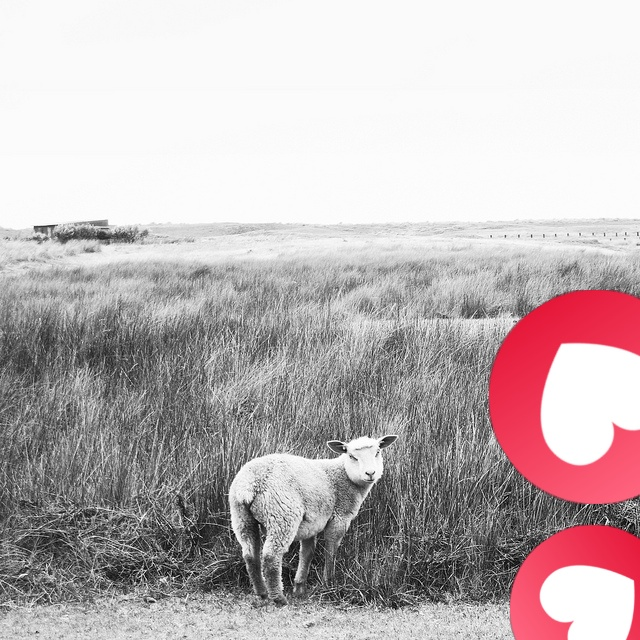love: (489, 290, 640, 504), (510, 525, 640, 640)
